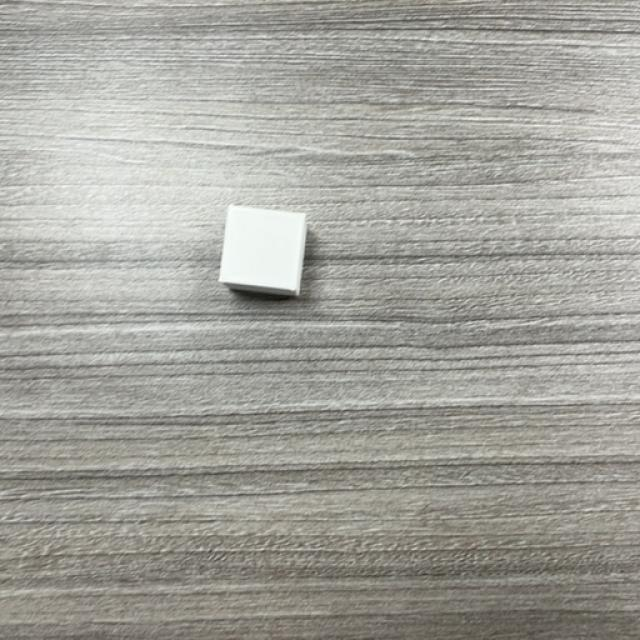Blanco: (219, 206, 306, 301)
